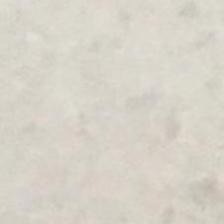Non_Crack: (32, 19, 204, 193)
